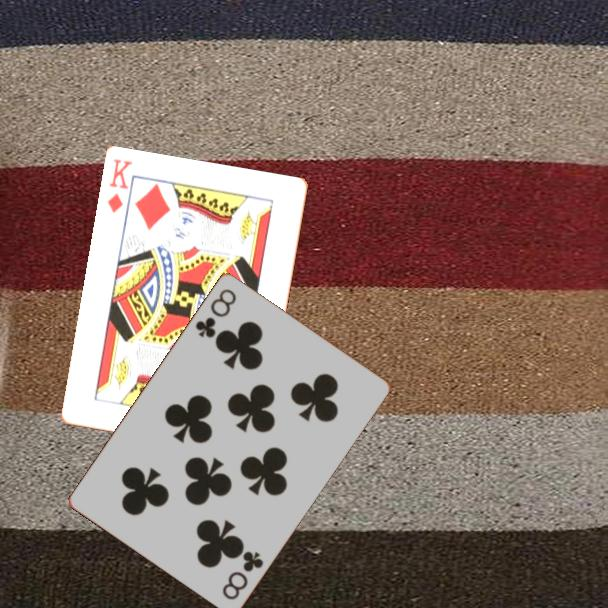c08: (191, 285, 239, 341), (218, 547, 266, 602)
d13: (104, 156, 136, 216)
